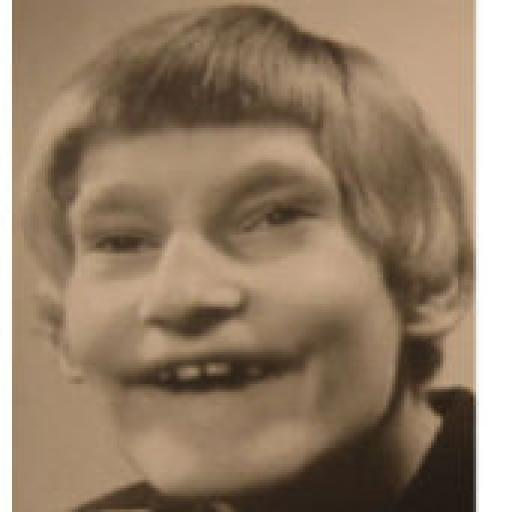Autism: (41, 54, 457, 485)
